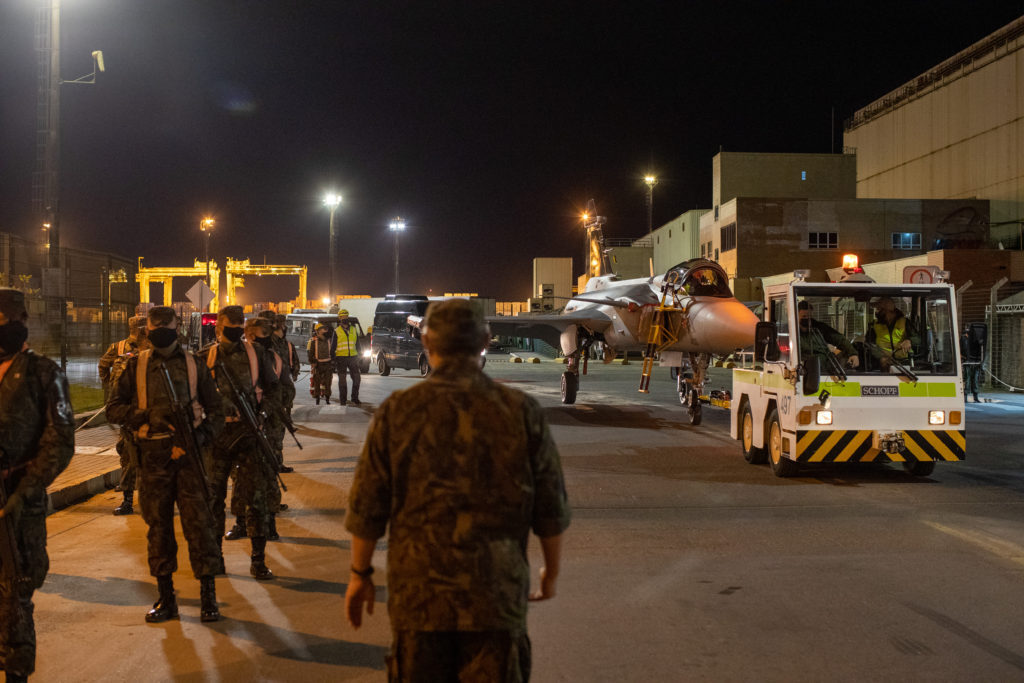JAS39: (406, 196, 763, 426)
